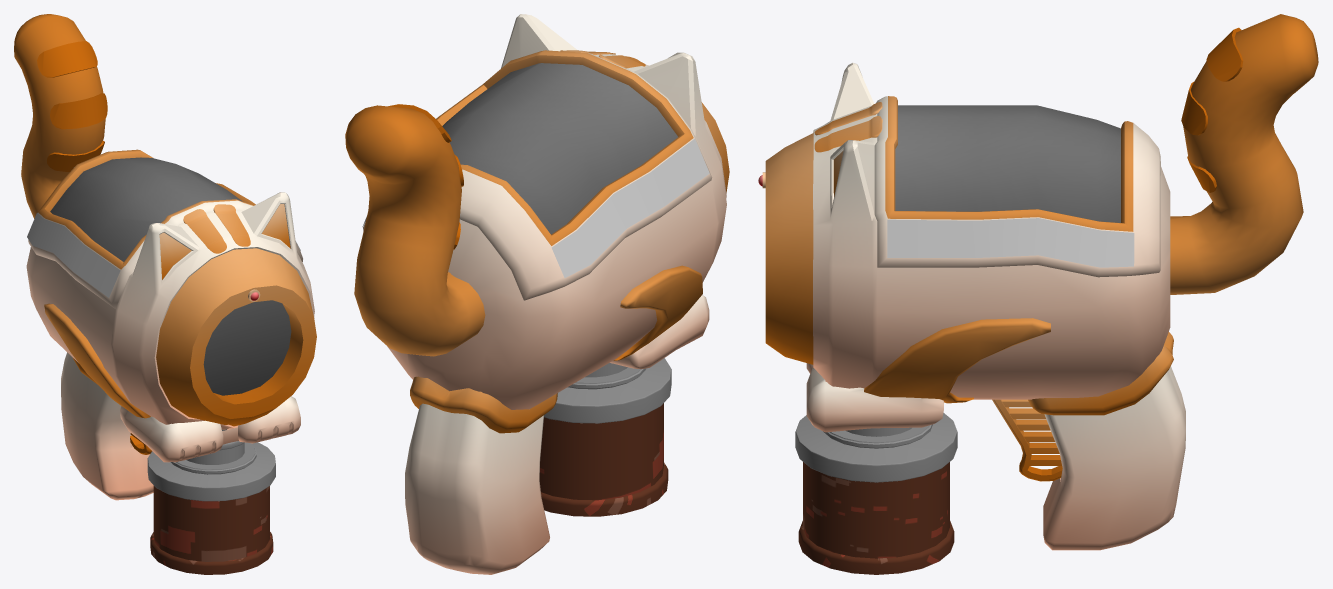
Rendered from Treat_O_Matic_5000.fbx.
3 renders of one model, left to right at view 1: azimuth 30°, elevation 25°; view 2: azimuth 150°, elevation 25°; view 3: azimuth 270°, elevation 25°, orthographic. The views are drawn at different scales.
Visible parts, largest first — view 1: Launcher, Treat_Tin, Label; view 2: Launcher, Treat_Tin, Label; view 3: Launcher, Treat_Tin, Label.
Part boxes in pixels (box(x1,y1,x2,y2)): Launcher: box(14, 14, 316, 501); Treat_Tin: box(150, 485, 273, 574); Label: box(27, 213, 300, 297); Launcher: box(345, 14, 729, 574); Treat_Tin: box(539, 403, 668, 516); Label: box(362, 138, 709, 277); Launcher: box(758, 14, 1318, 550); Treat_Tin: box(798, 462, 954, 574); Label: box(887, 218, 1134, 267).
Size of the model in its own units: 214 by 407 by 396.
